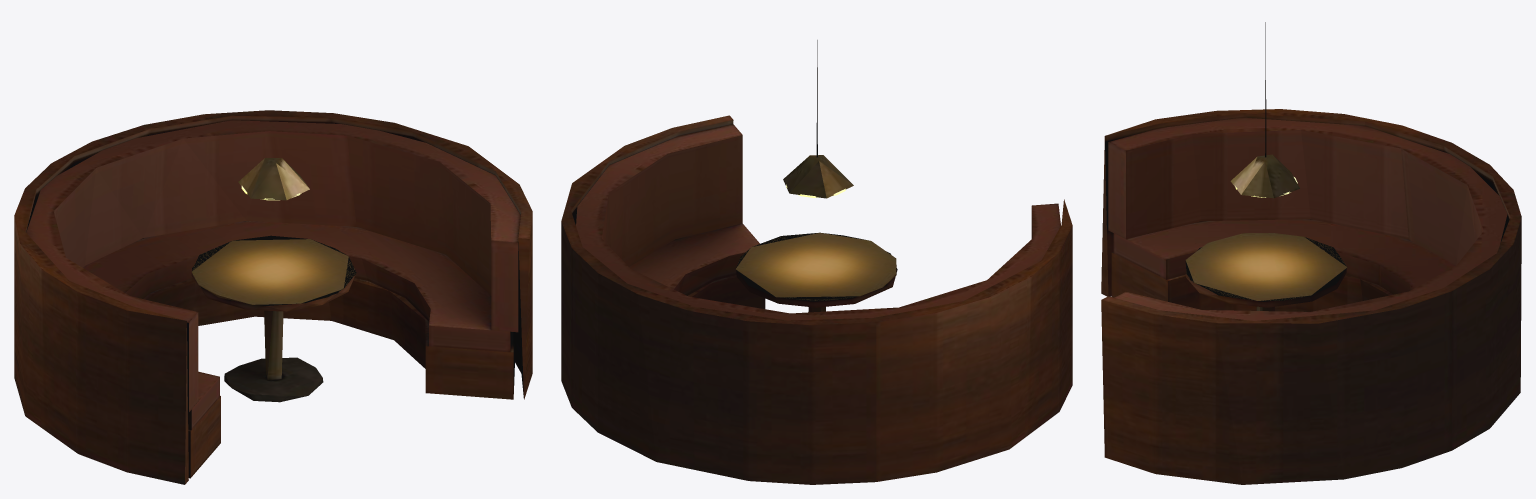
Rendered from cantina_booth_lod1.glb.
The picture shows the model from 3 angles, left to right: view 1: azimuth 30°, elevation 25°; view 2: azimuth 150°, elevation 25°; view 3: azimuth 270°, elevation 25°; orthographic projection.
Visible parts, largest first — view 1: cantina_booth; view 2: cantina_booth; view 3: cantina_booth.
Boxes of the visible parts, bbox=[...] form: cantina_booth: bbox=[14, 110, 532, 484]; cantina_booth: bbox=[561, 40, 1072, 484]; cantina_booth: bbox=[1101, 22, 1521, 484].
Bounding box in the file's own units: 3.2 × 2.5 × 2.63.
2 materials, 1 textured.
